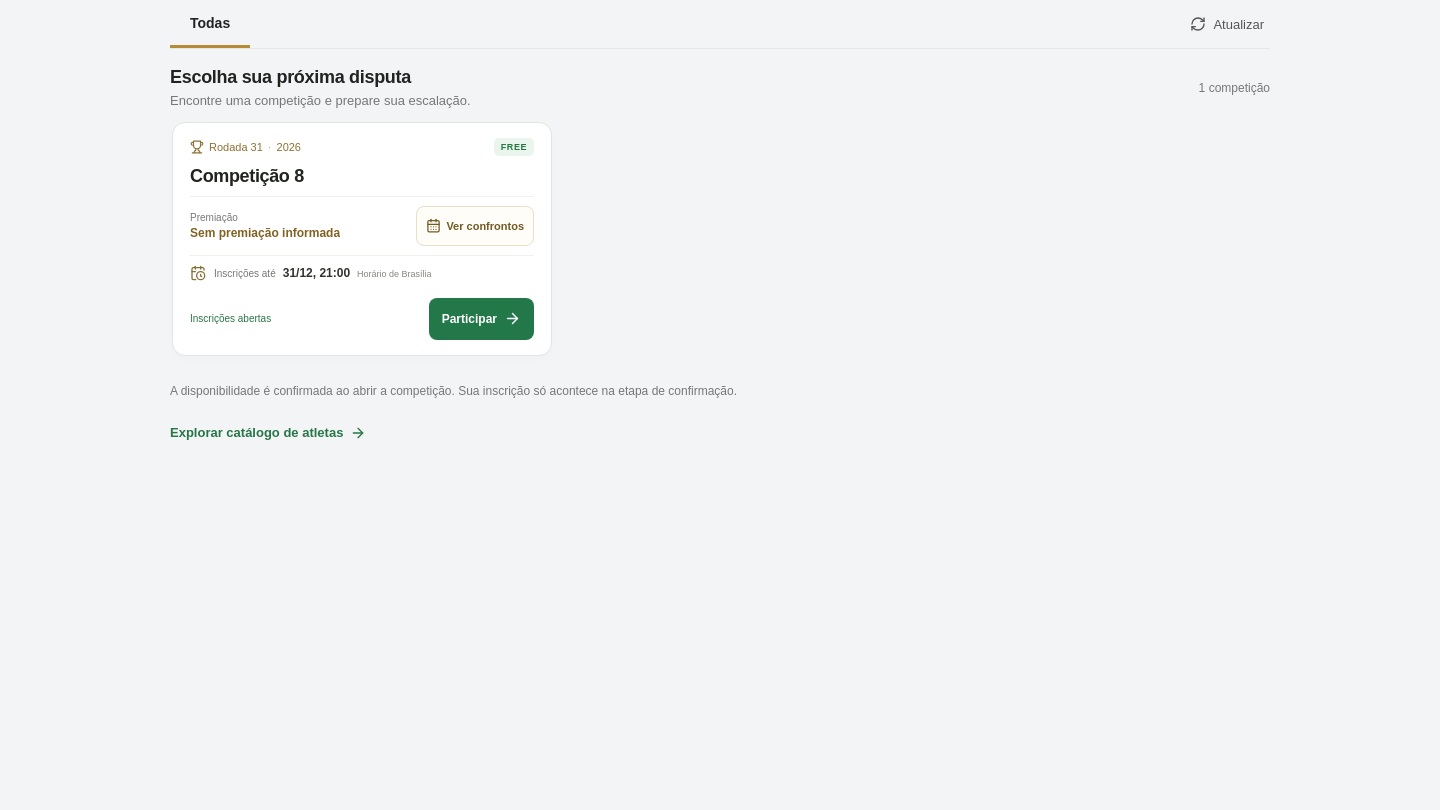
ignora uma resposta atrasada depois que a modal é fechada
Click the button "Ver confrontos": click(475, 226) [416,206,534,246]
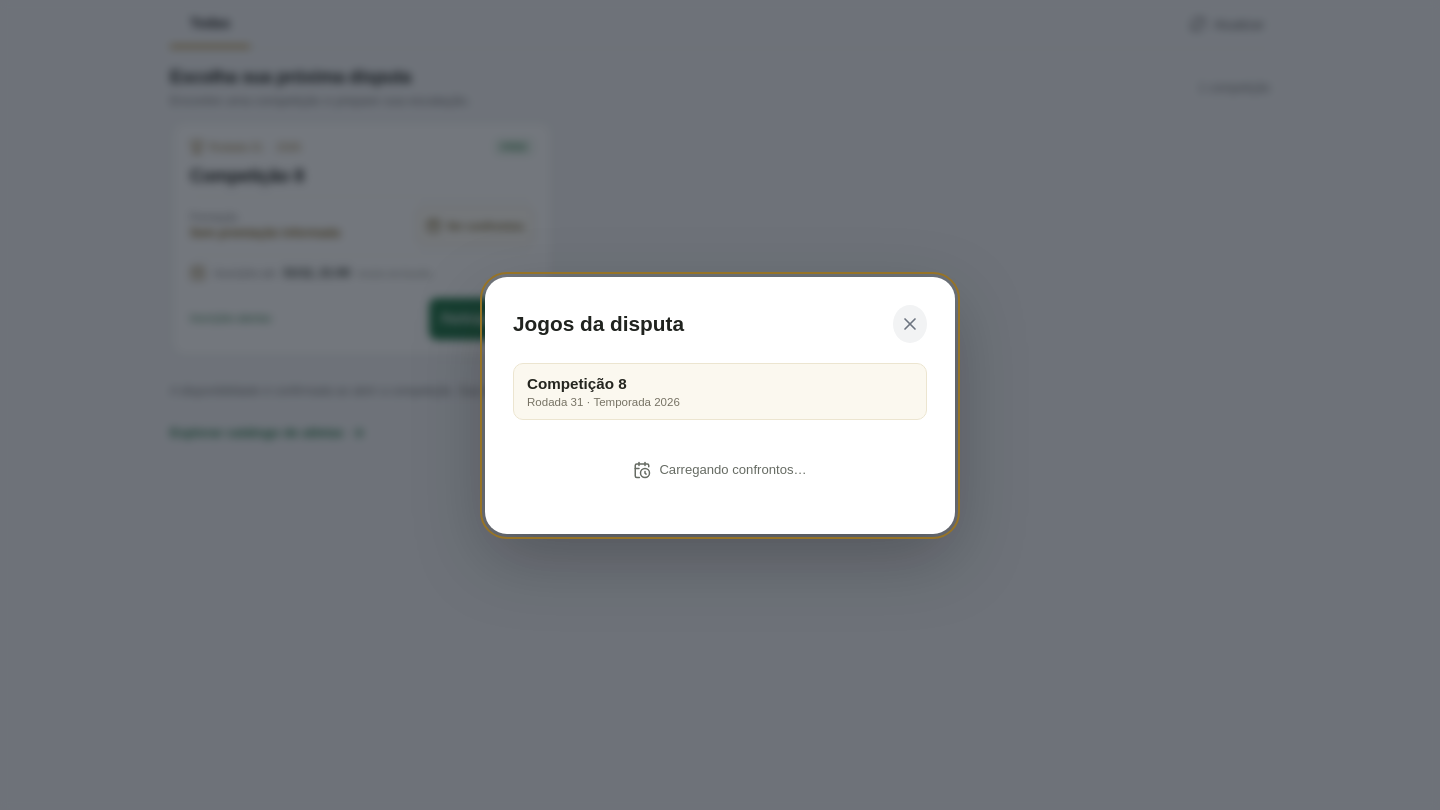
Result: the dialog "Jogos da disputa" is shown at [485,276,955,534]
Click the button named "Fechar": click(910, 324) [893,304,927,342]
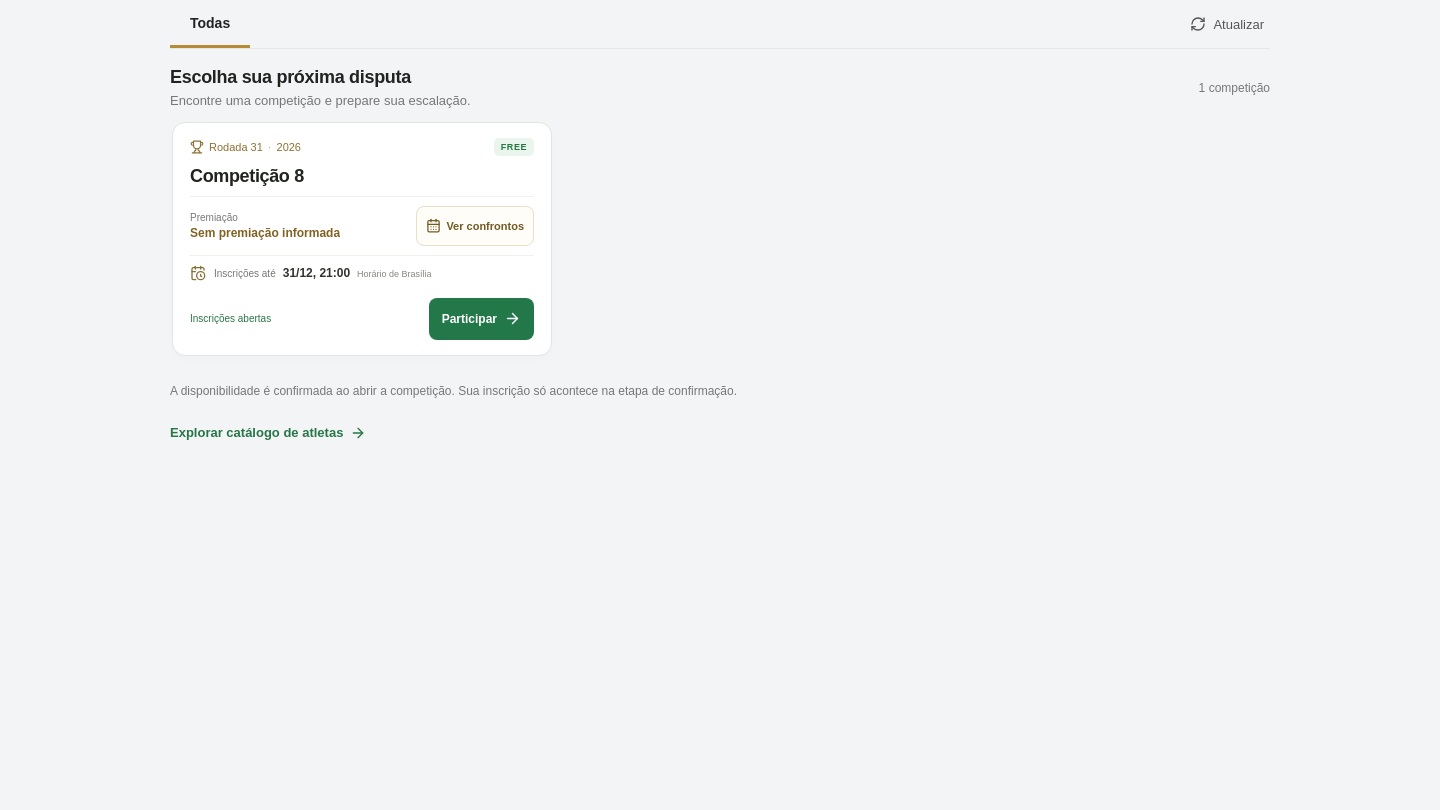
Result: the dialog is gone
